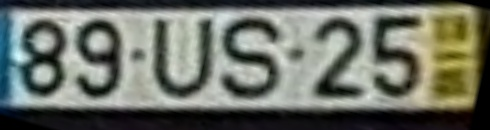2: (308, 15, 369, 106)
5: (370, 15, 428, 105)
8: (17, 17, 70, 102)
9: (73, 16, 126, 103)
S: (218, 17, 284, 103)
U: (149, 17, 216, 101)
